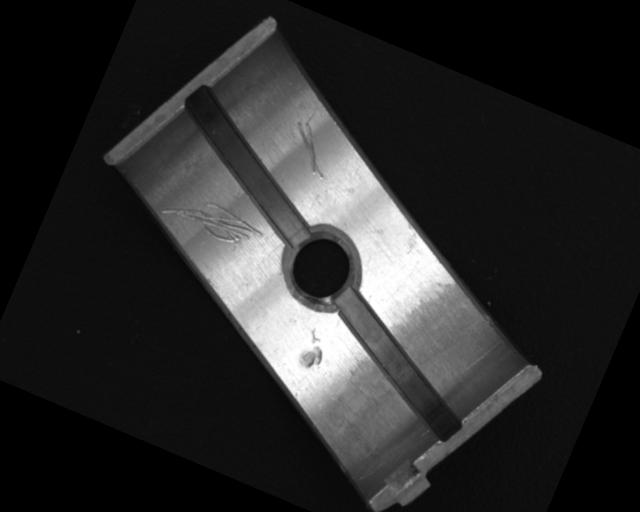bruise: (295, 325, 333, 374)
gap: (151, 83, 343, 248), (306, 286, 492, 444)
hole: (270, 218, 372, 318)
nick: (158, 183, 268, 256), (280, 118, 340, 180)
